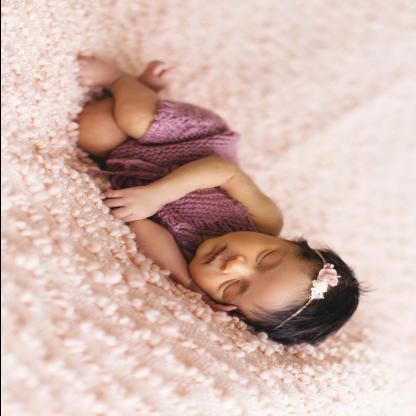Eye: (217, 279, 240, 297), (255, 249, 277, 266)
Mouth: (199, 246, 226, 264)
Nose: (219, 255, 254, 278)
